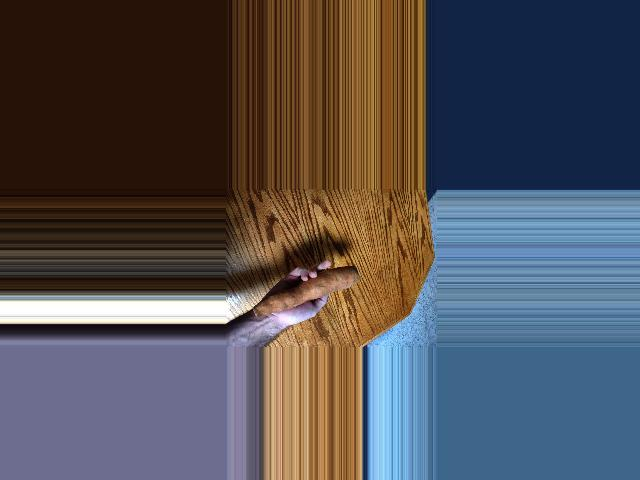sweet_potato: (252, 273, 355, 318)
